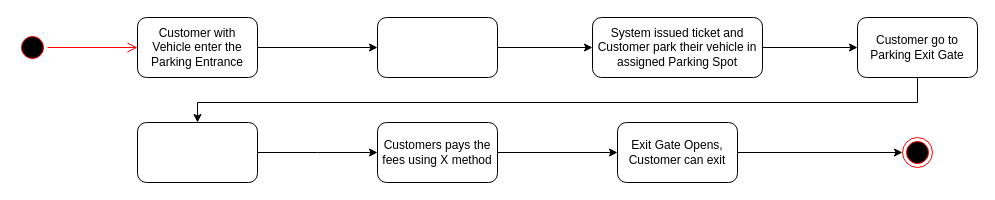
Some shapes in this 995 by 200 pixel diagram are drawn without their labels. Each missing label, with the centre of its shape:
"System record the timestamp and assign nearest Parking Spot from the Entrance" goes at [437,47].
"Systems calculate fees based on hourly basis" goes at [197,152].
